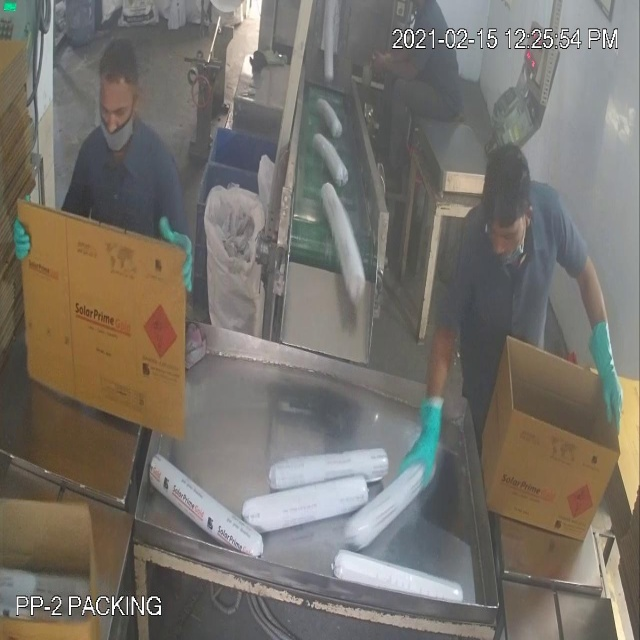Guantes: (400, 376, 446, 492), (589, 323, 626, 436)
Sin_guantes: (363, 40, 426, 92)
